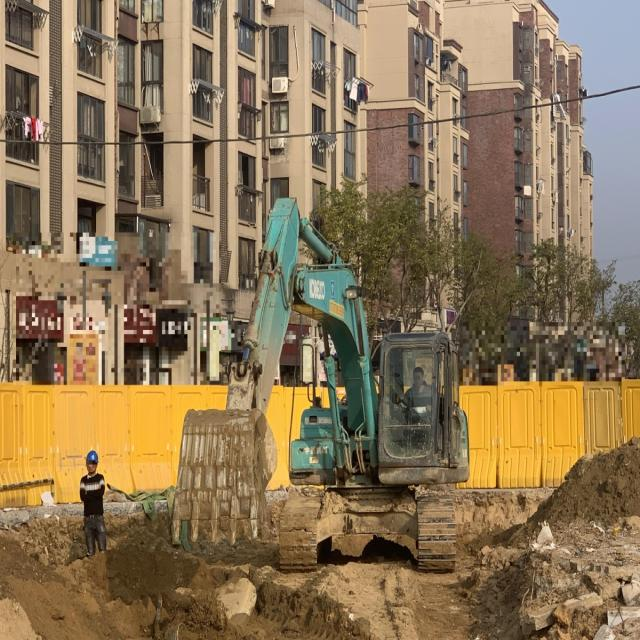excavator: (172, 197, 469, 574)
